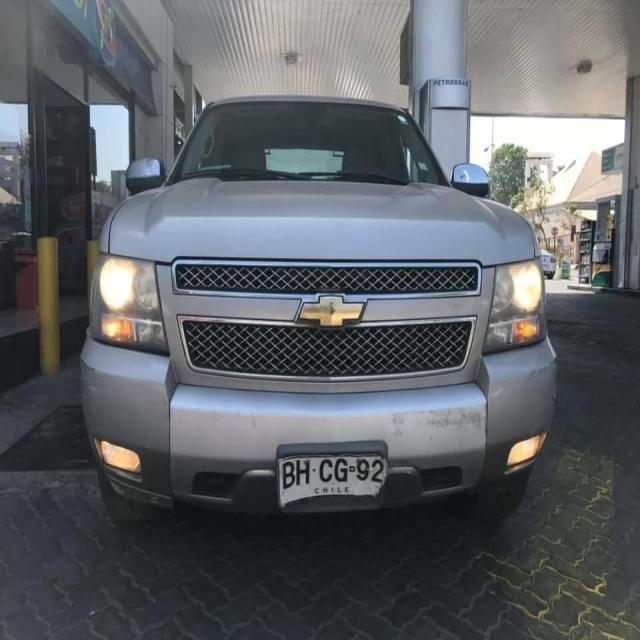patente: (277, 450, 387, 508)
